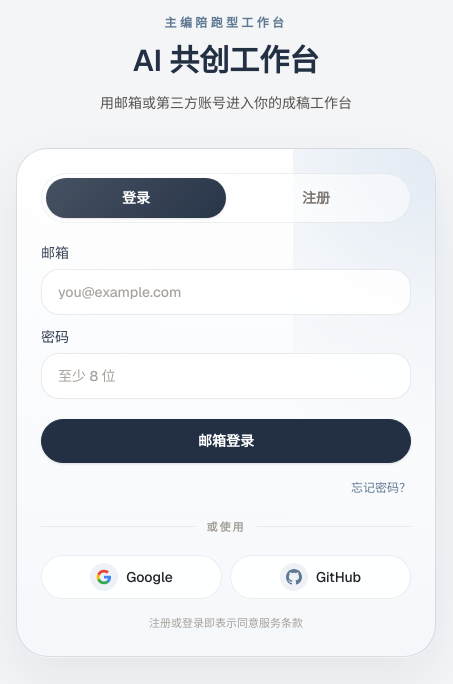
LoginPage › shows a clear message when resetting an unregistered email
Click the button "忘记密码？": (381, 488) [351,480,411,496]
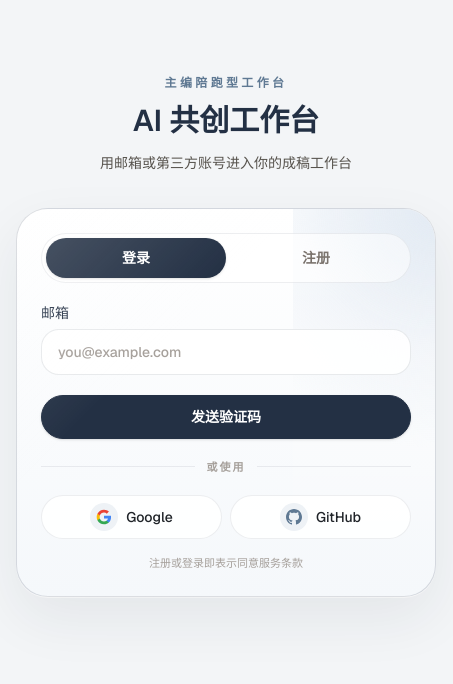
In the field labelled "邮箱": (226, 352) [41,328,411,374], type "missing@qq.com"
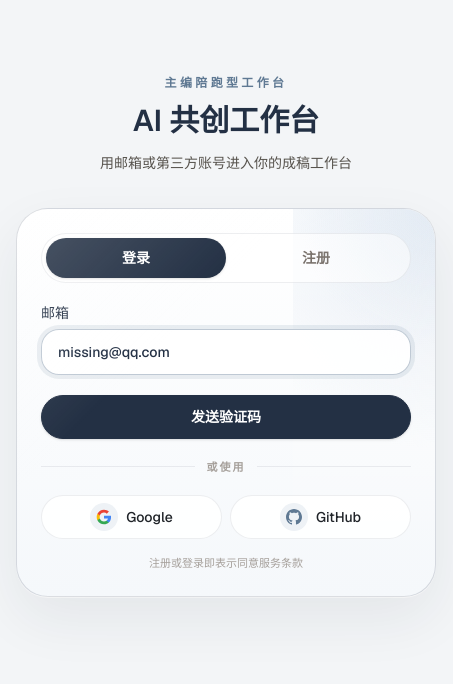
Click the button "发送验证码": (226, 416) [41,394,411,438]
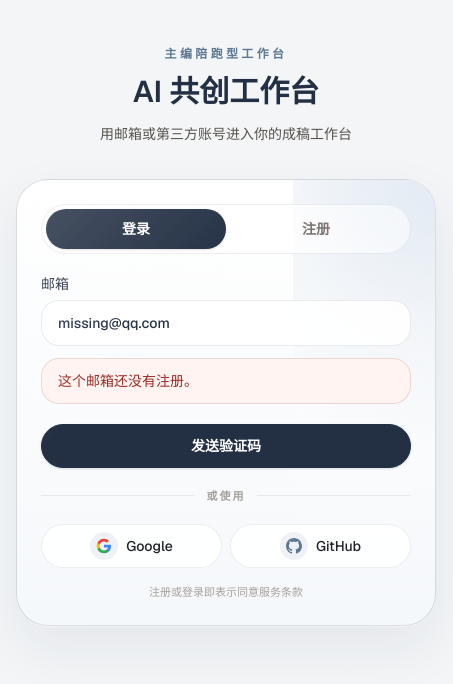
Result: the text "这个邮箱还没有注册。" is shown at [41,358,411,404]
